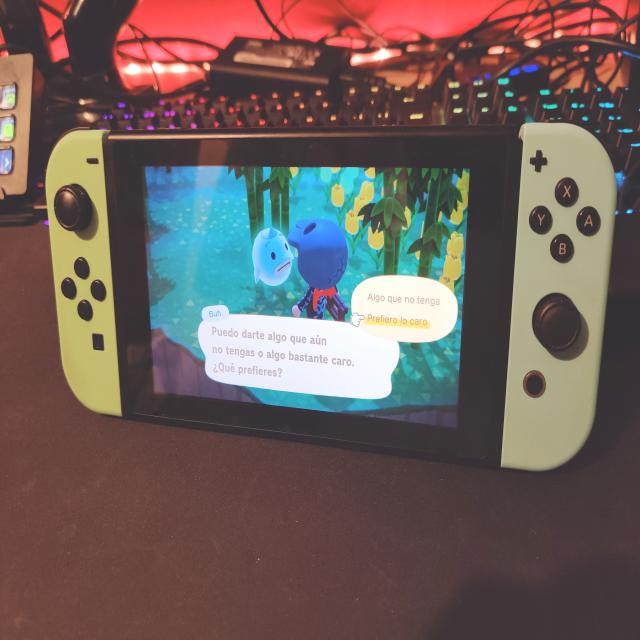text_bubble: (198, 305, 401, 402), (352, 275, 459, 346)
